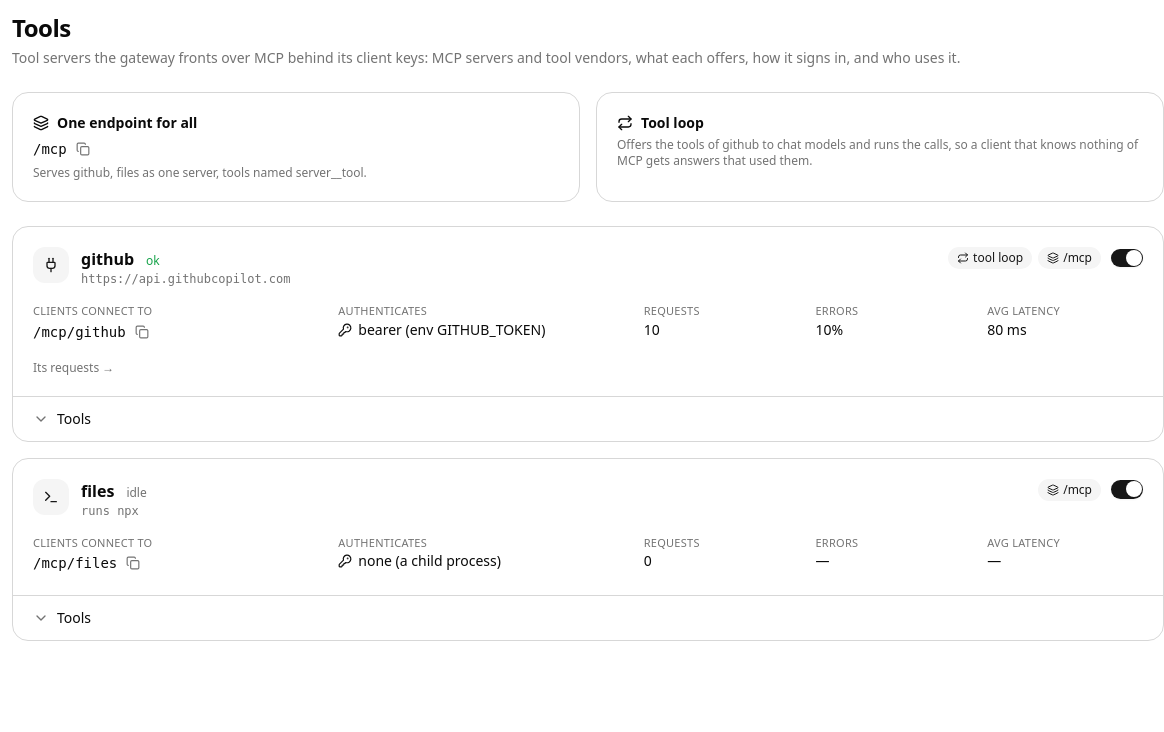
ToolsPage › asks a server for its tools only when they are opened
This screenshot has width=1164, height=732.
Check: the text "/mcp/github" is shown, box [33,322,126,342]
What coordinates should you click on to do the following:
click the button "Tools" below "Its requests →"
I would click on:
 (62, 418)
Its box is [33,408,91,428].
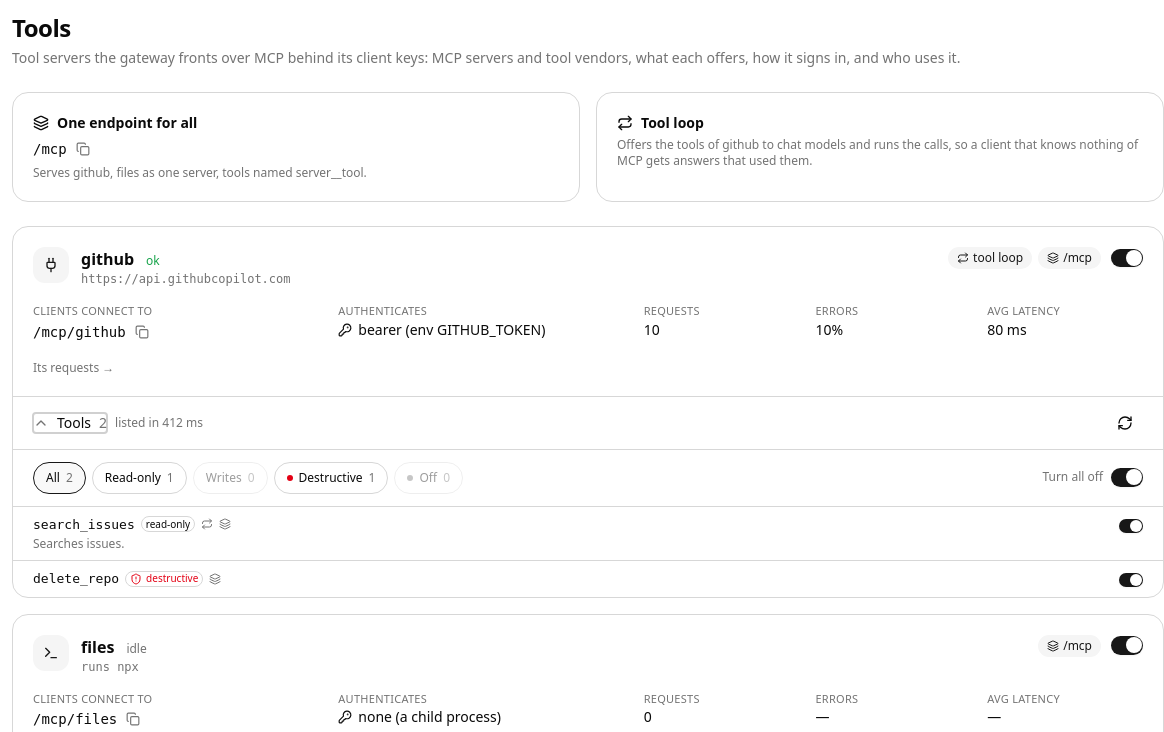
Check: the list item "search_issues read-only Searches issues." is shown, box [13,506,1163,561]
Check: the icon named "tool loop" is shown, box [201,518,213,530]
Check: the list item "delete_repo destructive" is shown, box [33,569,1143,588]
